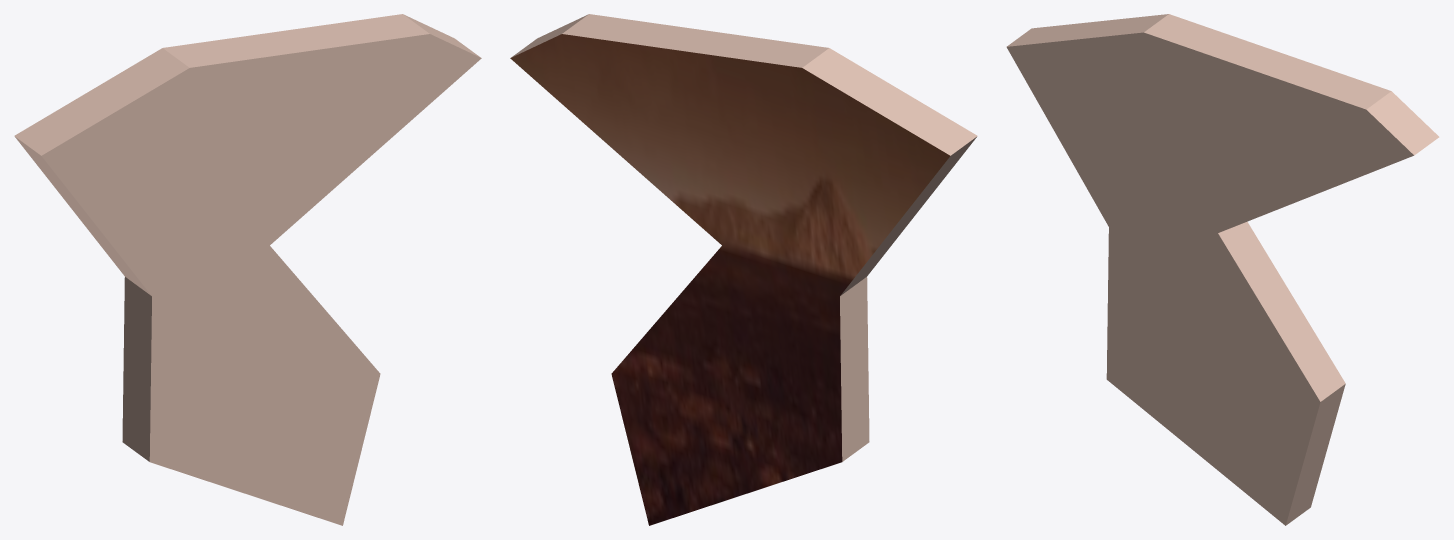
File: monde5.glb
3 renders of one model, left to right at view 1: azimuth 30°, elevation 25°; view 2: azimuth 150°, elevation 25°; view 3: azimuth 330°, elevation 25°, orthographic. The views are drawn at different scales.
Parts seen in each view (by area): view 1: Plane.006; view 2: Plane.006; view 3: Plane.006.
Part boxes in pixels (<box>): Plane.006: <box>14,14,481,525</box>; Plane.006: <box>510,14,977,525</box>; Plane.006: <box>1006,14,1439,525</box>.
Size of the model in its own units: 45.88 by 49.32 by 4.92.
2 materials, 1 textured.
